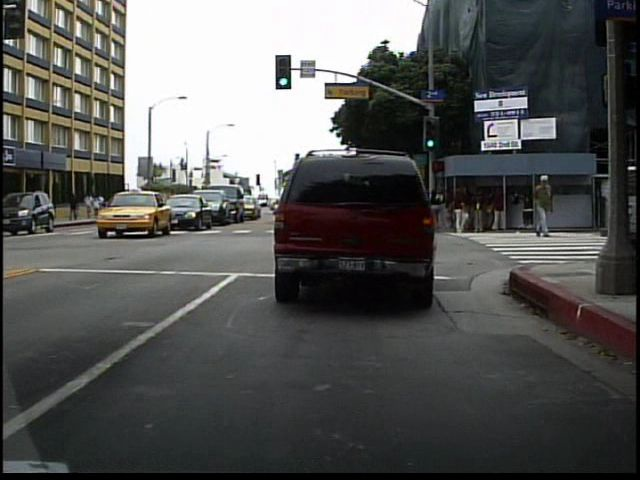person: (530, 171, 554, 241), (24, 194, 43, 230)
